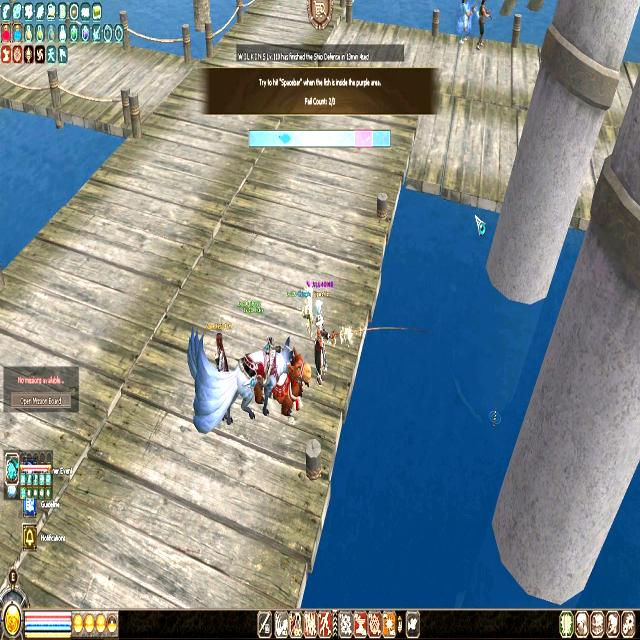box: (354, 128, 372, 150)
fishes: (278, 132, 291, 144)
